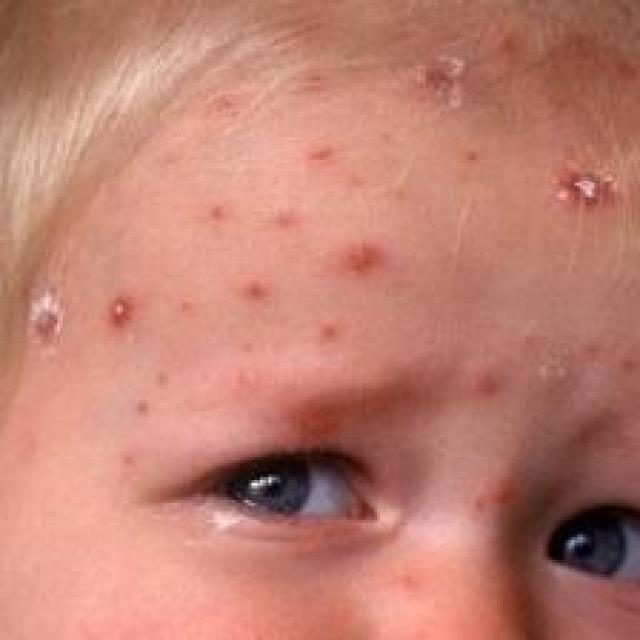others: (0, 14, 640, 580)
